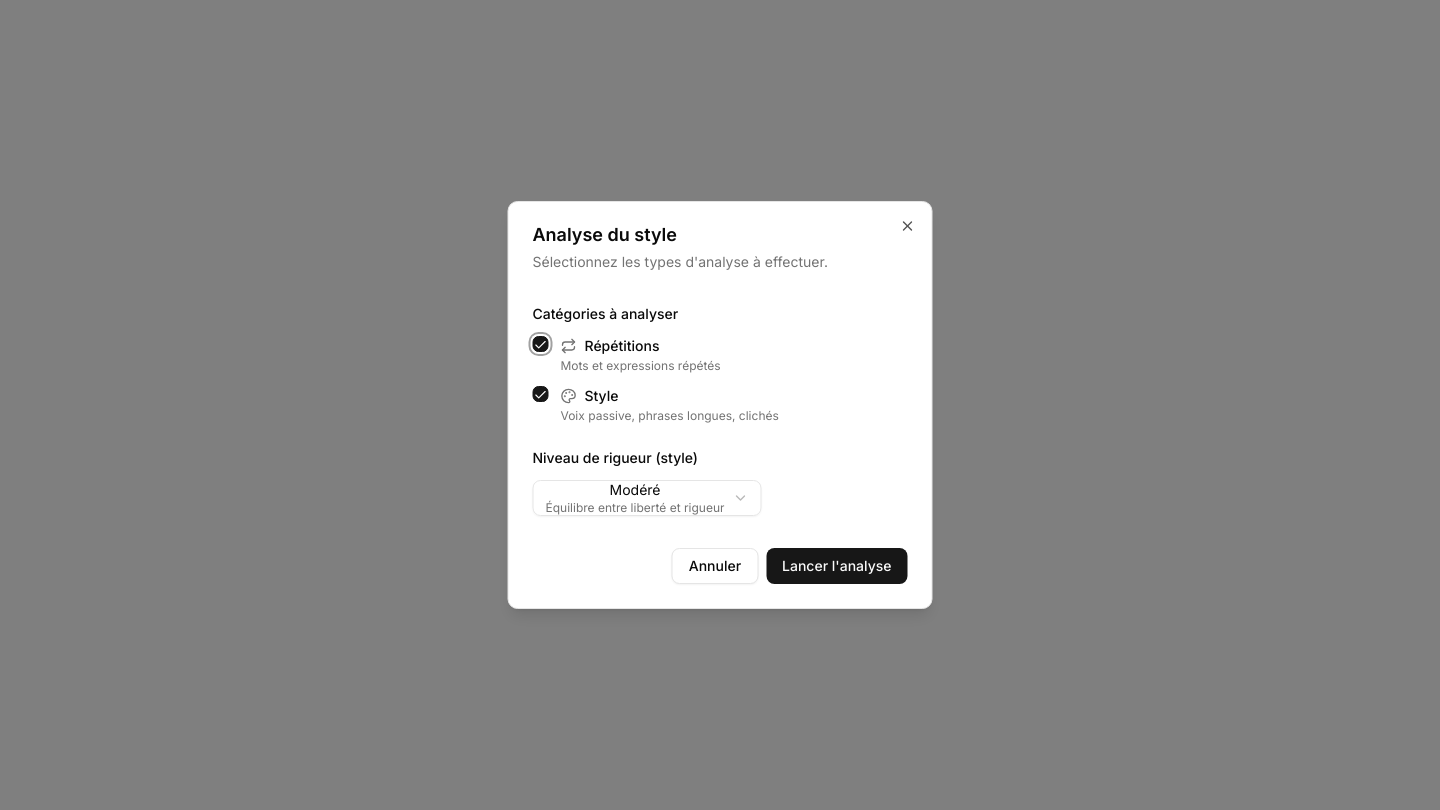
Test: AnalysisConfigDialog › disables start button when no categories are selected
What coordinates should you click on to do the following:
click the checkbox named "Répétitions"
I would click on:
 (540, 344)
Its box is x1=532 y1=336 x2=548 y2=352.
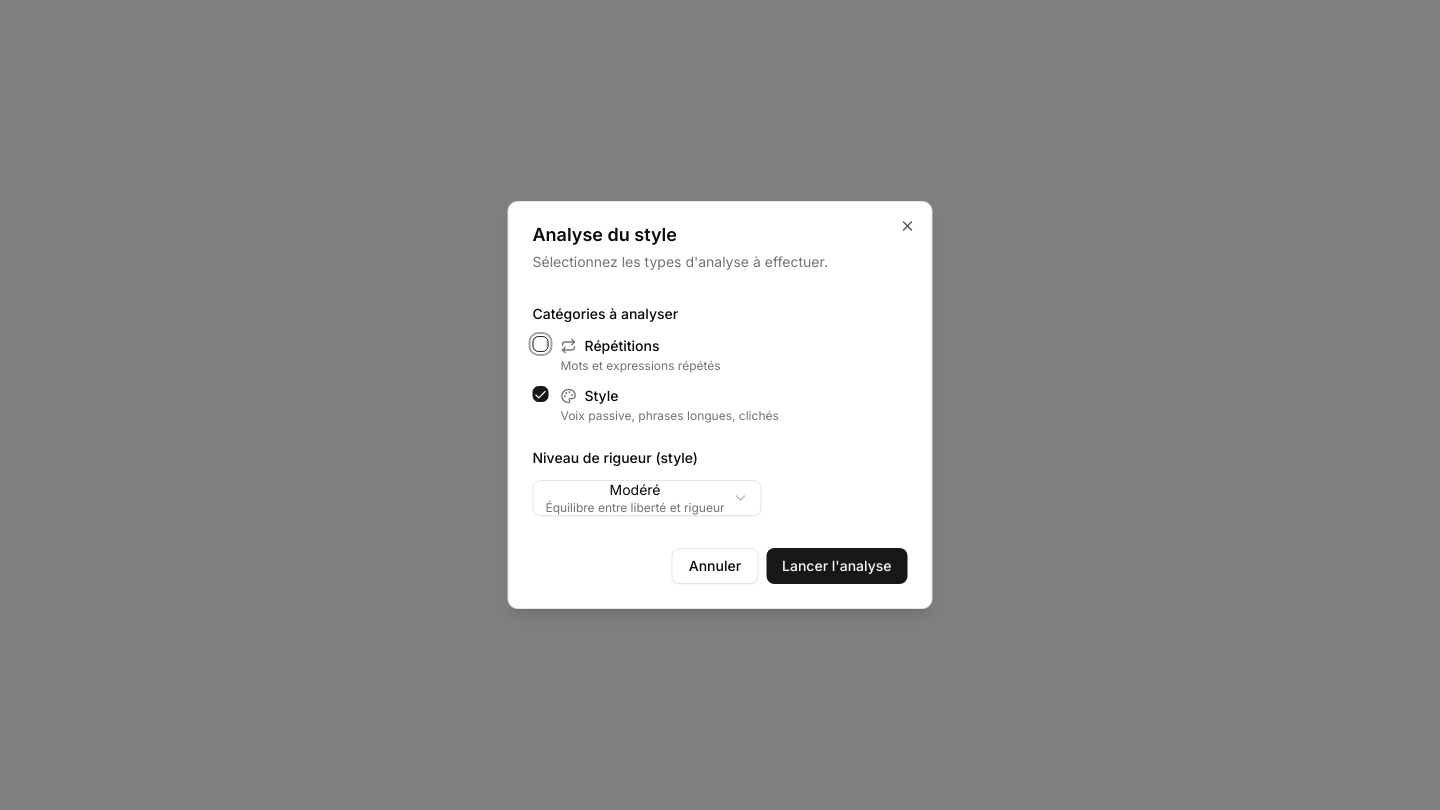
What coordinates should you click on to do the following:
click the checkbox named "Style"
I would click on:
 (540, 394)
Its box is x1=532 y1=386 x2=548 y2=402.
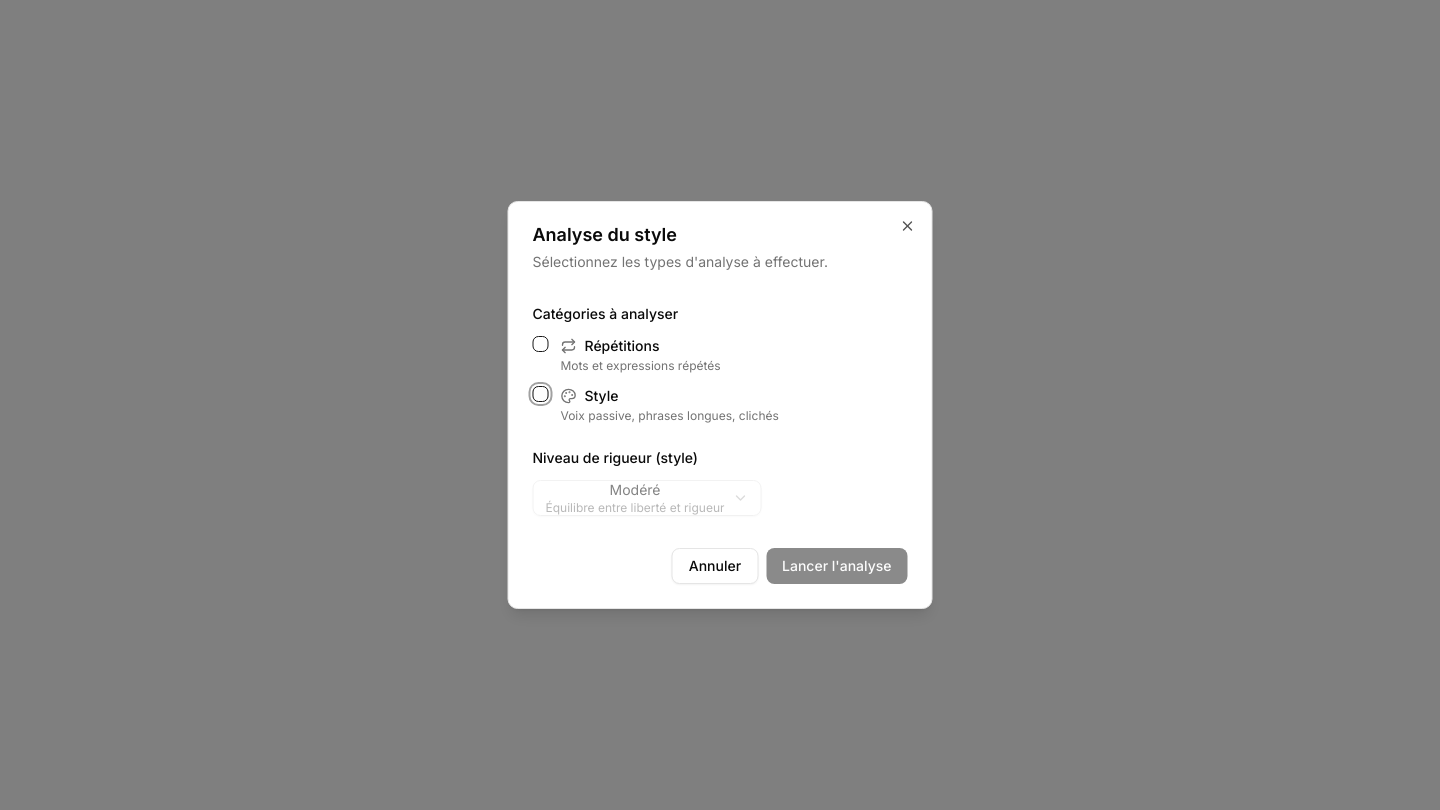
Result: the button "Lancer l'analyse" is disabled at x1=766 y1=548 x2=908 y2=584
